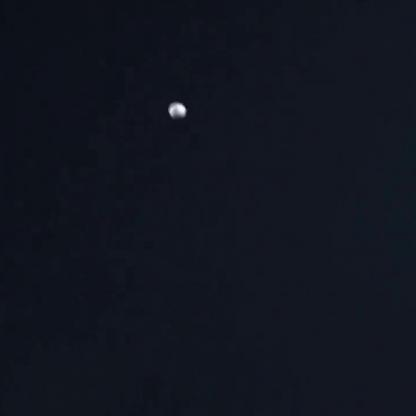ball: (162, 98, 192, 124)
